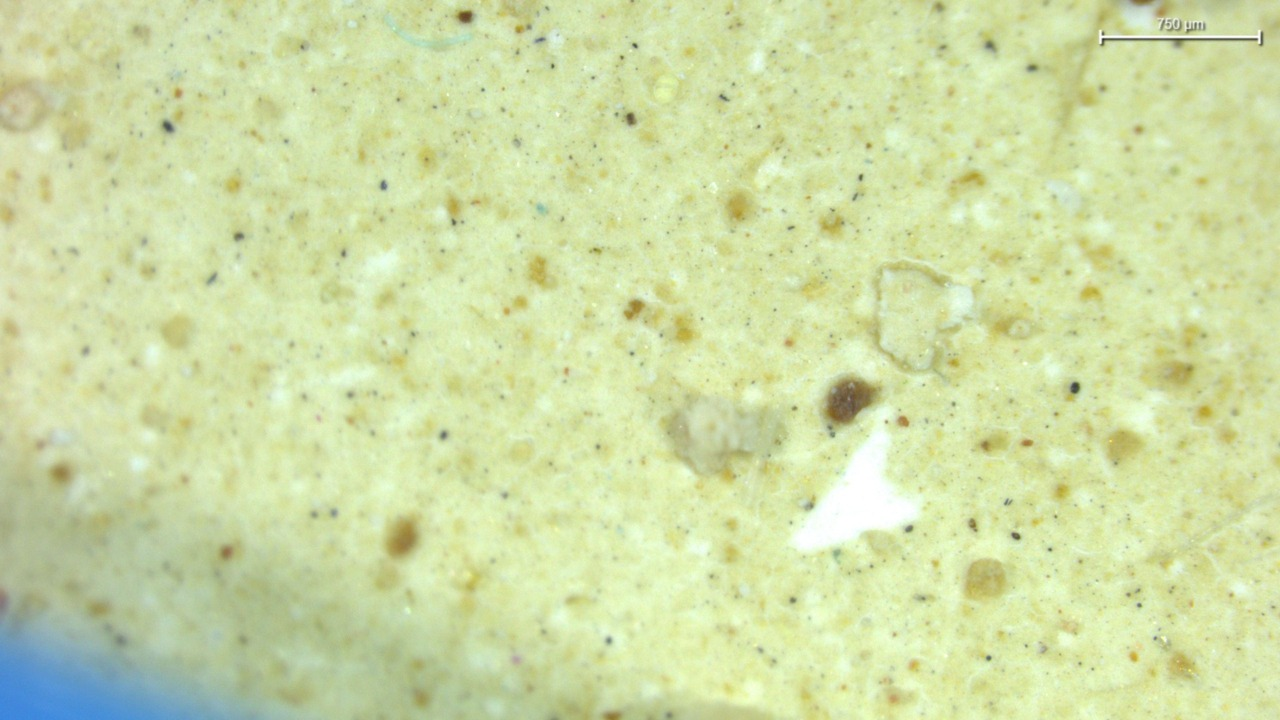microplastic_fragment: (872, 257, 975, 371), (672, 389, 780, 479)
